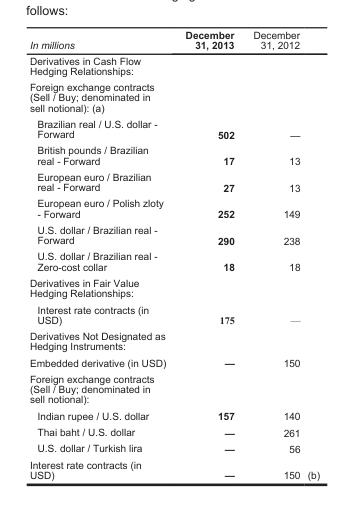table: (28, 28, 319, 480)
table column: (28, 28, 174, 480), (243, 28, 319, 480), (174, 28, 243, 480)
table column header: (28, 28, 319, 52)
table projected row header: (28, 78, 319, 115), (28, 370, 319, 406), (28, 52, 319, 78), (28, 274, 319, 300), (28, 327, 319, 353)
table row: (28, 78, 319, 115), (28, 370, 319, 406), (28, 115, 319, 142), (28, 168, 319, 195), (28, 221, 319, 248), (28, 300, 319, 327), (28, 52, 319, 78), (28, 142, 319, 168), (28, 195, 319, 221), (28, 248, 319, 274), (28, 274, 319, 300), (28, 327, 319, 353), (28, 28, 319, 52), (28, 456, 319, 480), (28, 353, 319, 370), (28, 406, 319, 423), (28, 439, 319, 456), (28, 423, 319, 439)
